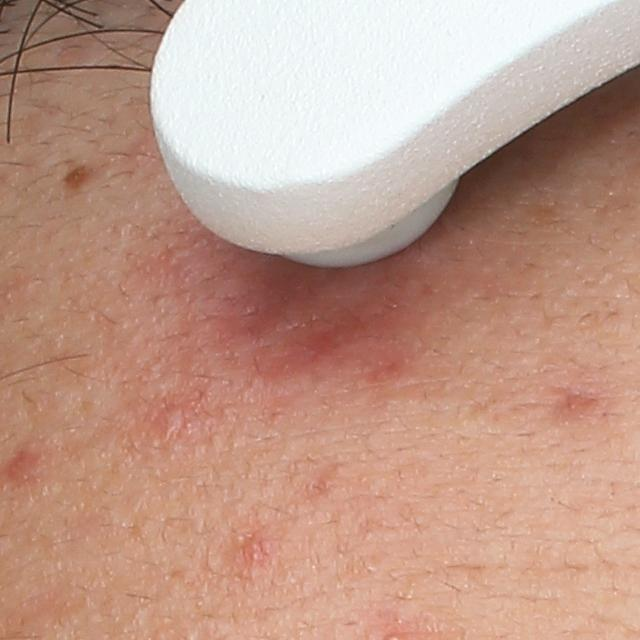papule: (155, 388, 207, 438), (1, 444, 44, 488)
